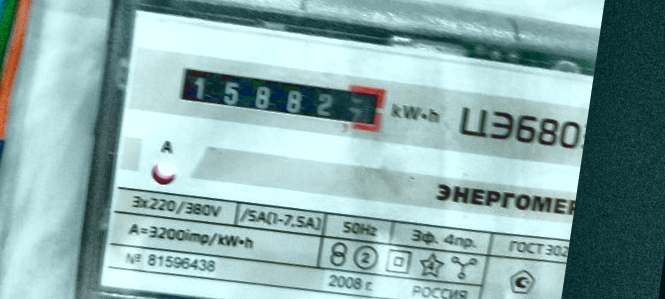1: (190, 75, 207, 101)
2: (315, 90, 334, 118)
5: (221, 79, 240, 106)
7: (345, 104, 362, 122)
8: (251, 84, 272, 110), (283, 86, 303, 113)
screen: (164, 51, 396, 143)
